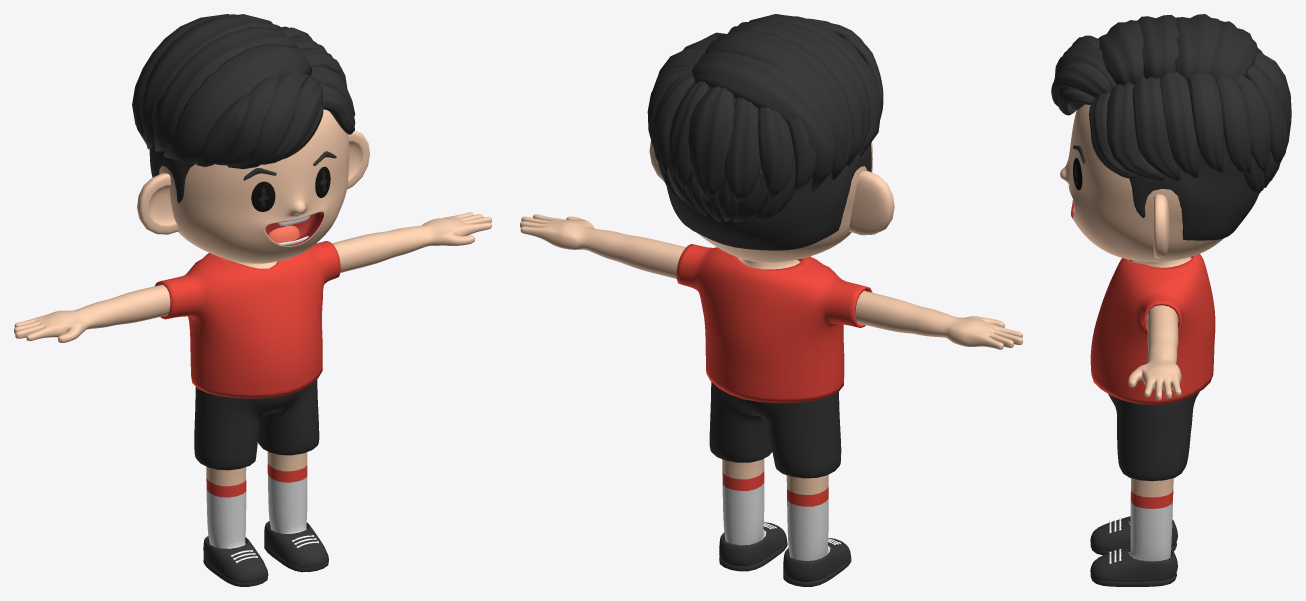
Rendered from sonygirl_1202_hi.glb.
3 renders of one model, left to right at view 1: azimuth 30°, elevation 25°; view 2: azimuth 150°, elevation 25°; view 3: azimuth 270°, elevation 25°, orthographic. The views are drawn at different scales.
Parts seen in each view (by area): view 1: hair_test, 상의, 몸_2, 머리_2, 하의, 신발, 귀, 눈__눈썹, hair_base, 치아__혀; view 2: hair_test, 상의, 몸_2, 하의, hair_base, 신발, 귀, 머리_2; view 3: hair_test, 상의, 머리_2, 몸_2, hair_base, 하의, 신발, 귀, 눈__눈썹.
Boxes of the visible parts, x1,y1,x2,y2 form: hair_test: [132, 14, 355, 169]; 상의: [155, 241, 340, 398]; 몸_2: [14, 212, 491, 548]; 머리_2: [159, 109, 349, 263]; 하의: [194, 379, 319, 470]; 신발: [203, 521, 328, 586]; 귀: [137, 130, 369, 234]; 눈__눈썹: [243, 151, 336, 211]; hair_base: [149, 144, 195, 203]; 치아__혀: [268, 215, 309, 244]; hair_test: [647, 14, 883, 222]; 상의: [676, 244, 872, 402]; 몸_2: [520, 214, 1022, 560]; 하의: [709, 382, 841, 478]; hair_base: [666, 87, 871, 250]; 신발: [719, 522, 851, 586]; 귀: [649, 141, 894, 235]; 머리_2: [697, 142, 872, 262]; hair_test: [1051, 14, 1291, 194]; 상의: [1090, 254, 1215, 404]; 머리_2: [1060, 104, 1223, 261]; 몸_2: [1128, 257, 1191, 561]; hair_base: [1129, 77, 1258, 240]; 하의: [1108, 392, 1199, 481]; 신발: [1090, 516, 1177, 586]; 귀: [1153, 194, 1169, 258]; 눈__눈썹: [1073, 145, 1085, 190].
Bounding box in the file's own units: 2.04 × 2.14 × 0.8724.
